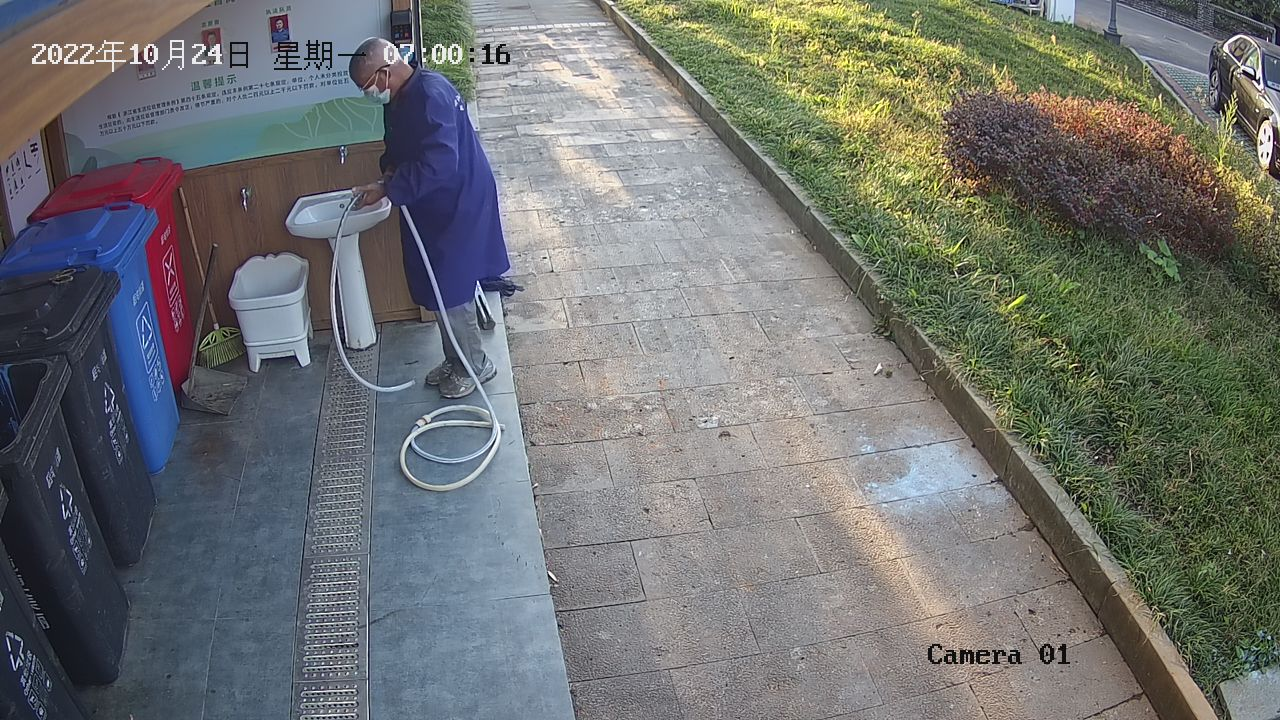worker: (344, 34, 515, 403)
